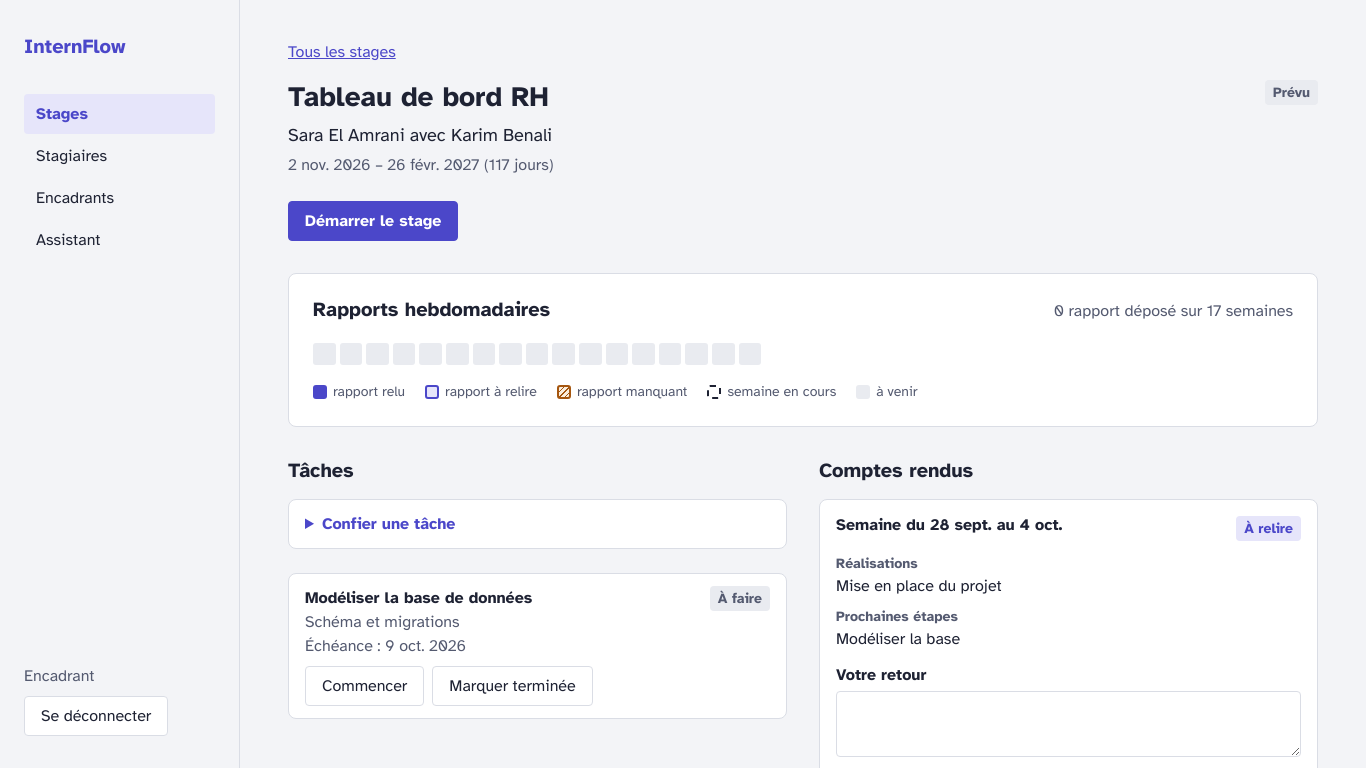
page d'un stage › propose à l'encadrant de démarrer un stage prévu
The width and height of the screenshot is (1366, 768).
Click the button "Démarrer le stage".
click(373, 221)  # box [288,201,458,241]
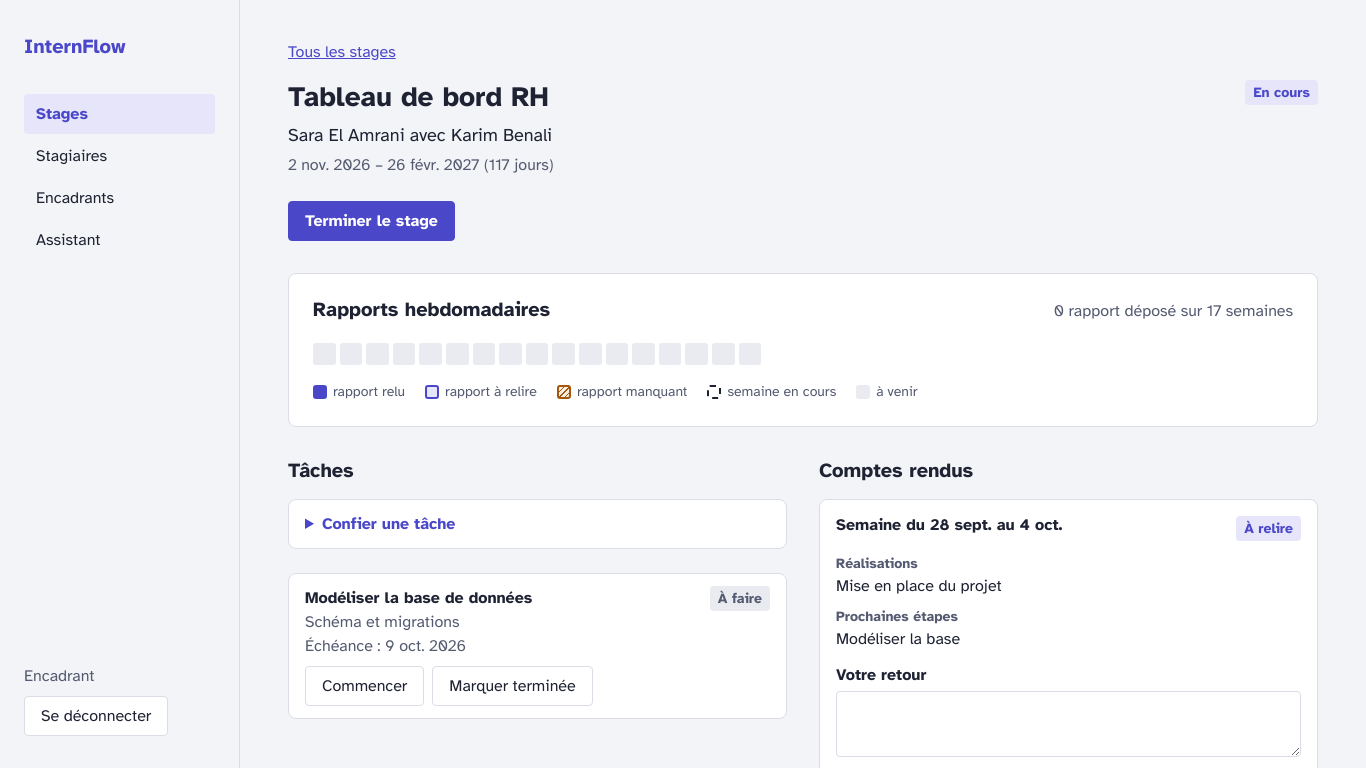
expect the button "Terminer le stage" is shown: met, box [288,201,455,241]
